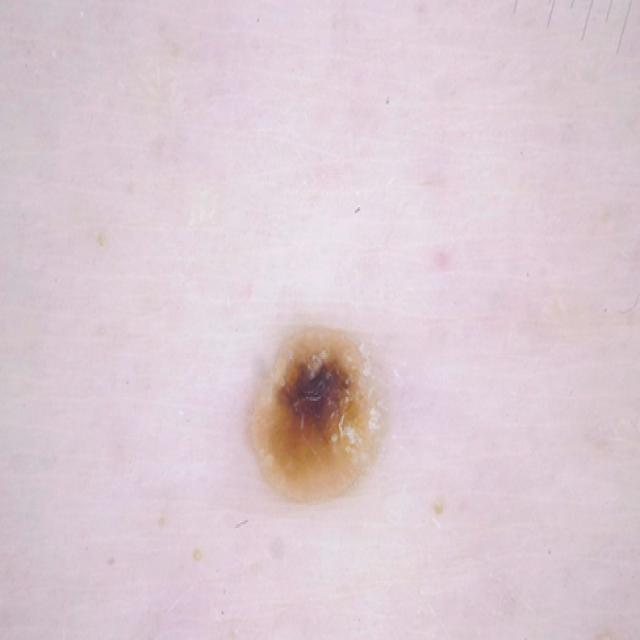Keratosis: (222, 303, 470, 533)
